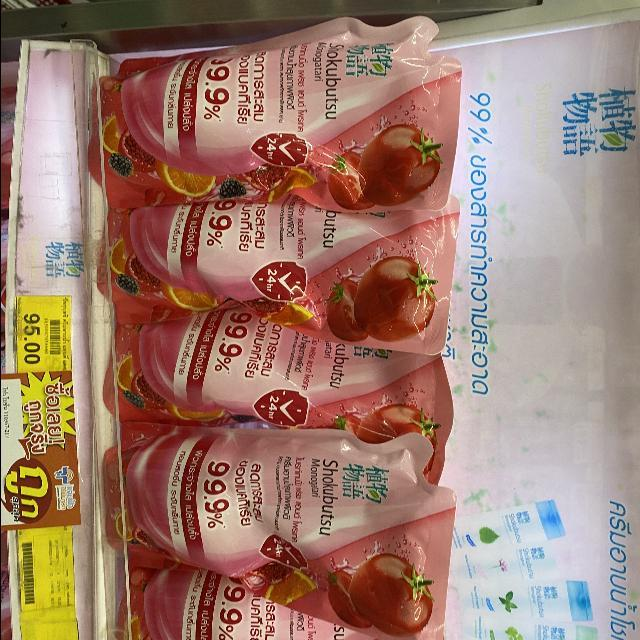Squeeze Tube: (58, 13, 478, 640), (88, 9, 449, 207), (122, 420, 440, 639), (107, 198, 460, 337), (119, 323, 441, 450)
